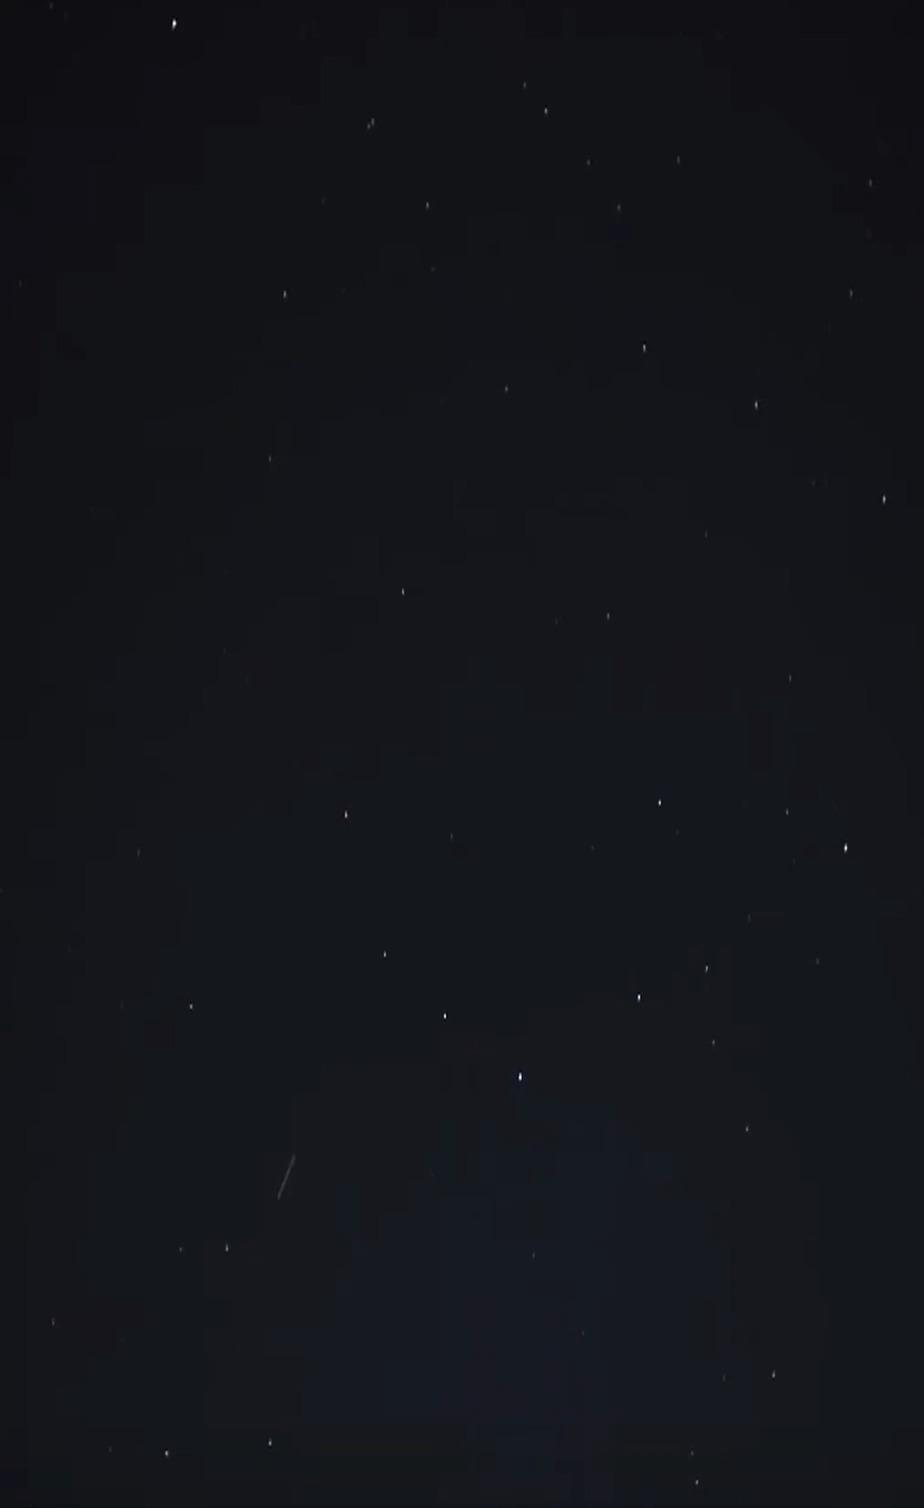meteorite: (244, 1141, 332, 1211)
